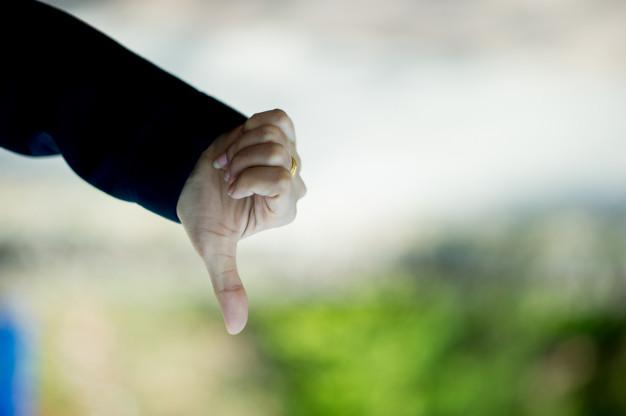thumbsdown: (210, 108, 307, 335)
